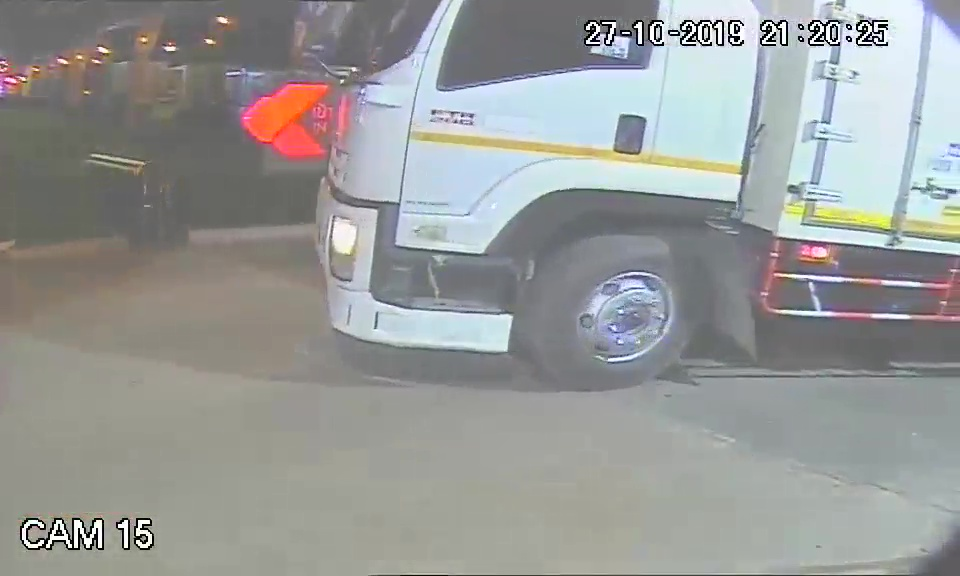truck: (315, 1, 754, 391)
